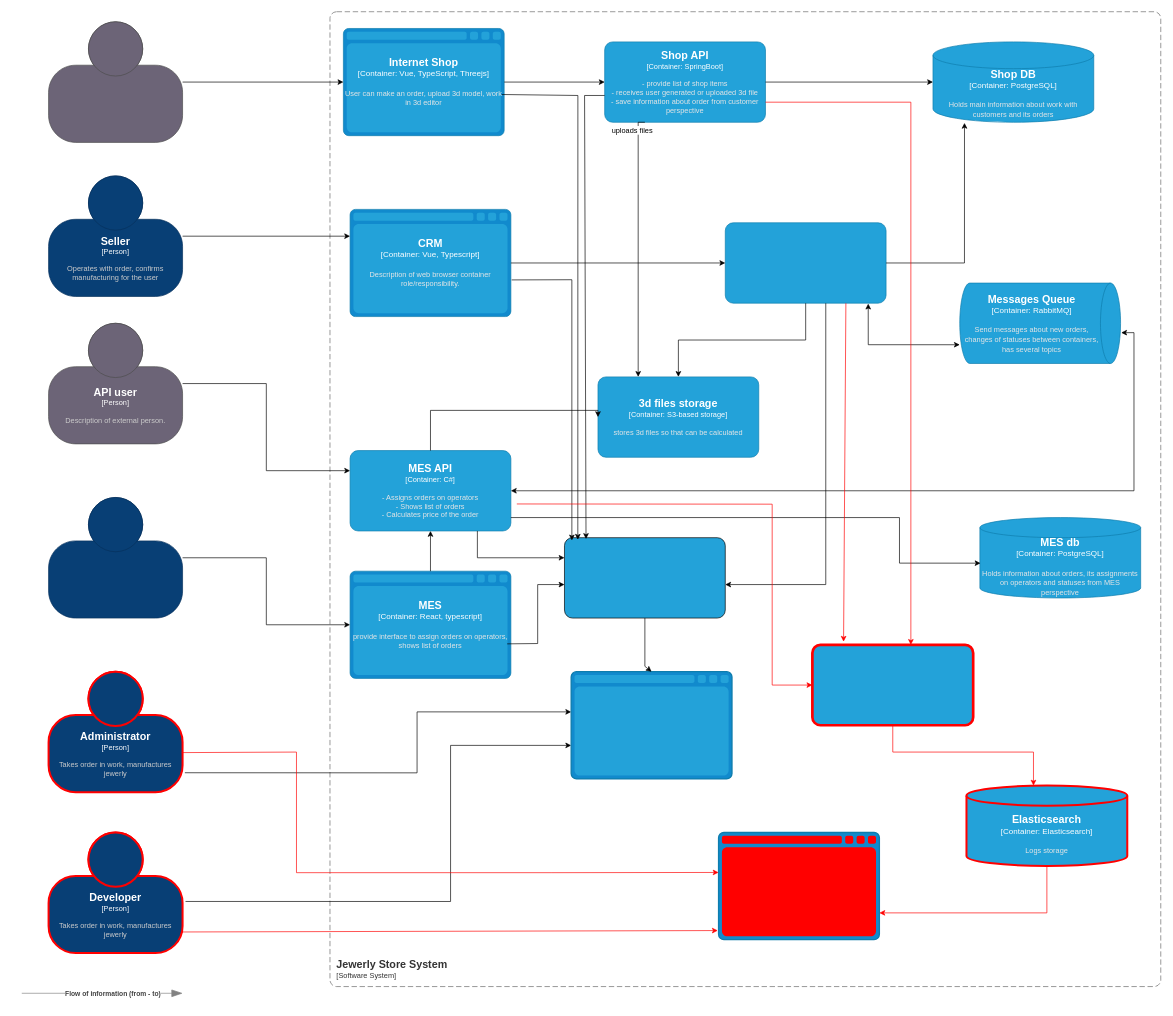
Image size: 1173x1016. Some labels were removed from this diagram. Here are the shapes that lost their labels. From the top down, the centre of each, then its label:
At point (115, 81): "Customer [Person] Description of external person.".
At point (805, 262): "CRM API [Container: SpringBoot] Description of container role/responsibility.".
At point (115, 557): "Operator [Person] Takes order in work, manufactures jewerly".
At point (644, 577): "Jaeger [Container: Jaeger] Collect traces".
At point (892, 684): "Logstash [Container: Logstash] Collect logs, filtering".
At point (651, 725): "Jaeger UI [Container: Jaeger] Visualisation traces".
At point (799, 885): "Kibana [Container: Kibana] Logs visualisation".
